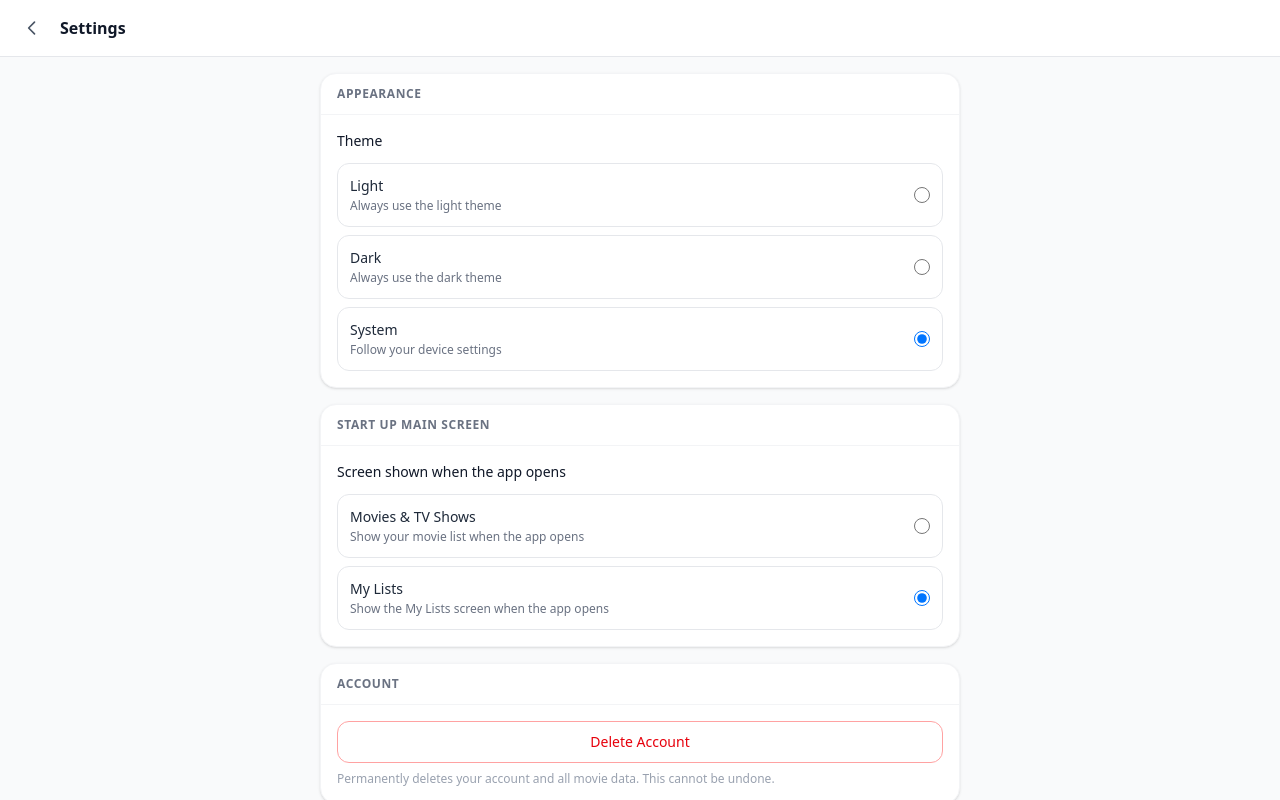
Scenario: SettingsPage › shows delete account confirmation dialog
Step 1. Click the button "Delete Account" → [640, 742], box [337, 721, 943, 763]
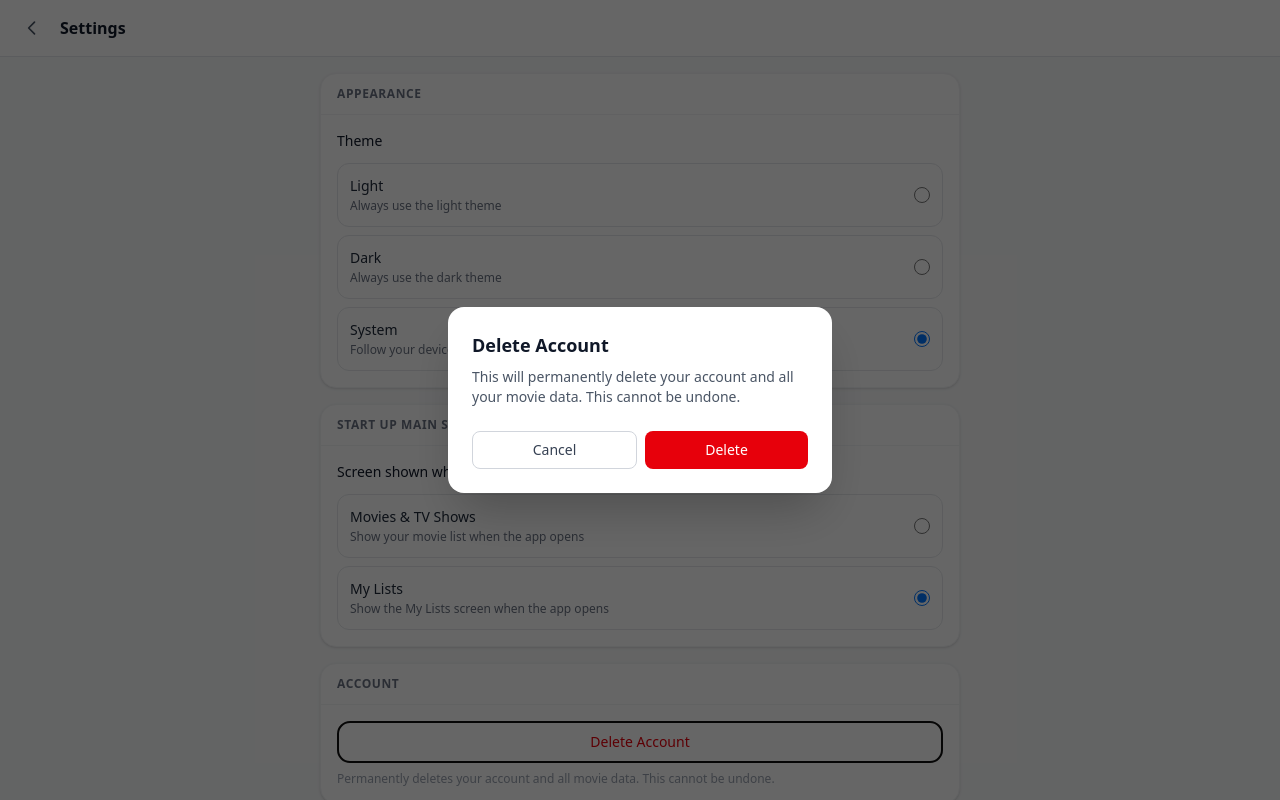
Expected: the heading "Delete Account" is shown, [472, 333, 609, 357]
Expected: the text "This will permanently delete your account and all your movie data. This cannot be undone." is shown, [472, 367, 794, 406]
